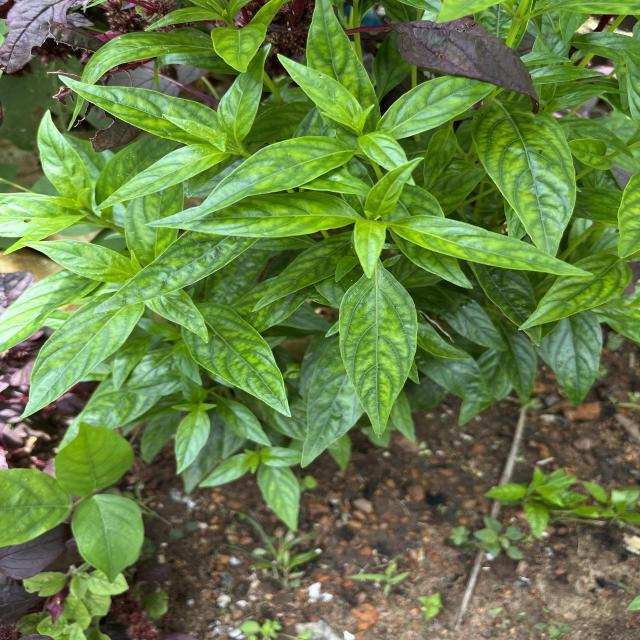Andrographis paniculata: (470, 97, 578, 259), (17, 289, 144, 420), (178, 133, 358, 224), (337, 264, 420, 438), (88, 231, 254, 316), (389, 214, 596, 278), (180, 302, 292, 418), (55, 73, 219, 147), (144, 190, 358, 240), (91, 142, 233, 212), (516, 252, 632, 333), (376, 74, 496, 140), (276, 53, 364, 128), (215, 42, 272, 148), (362, 155, 428, 219), (210, 21, 268, 74)
